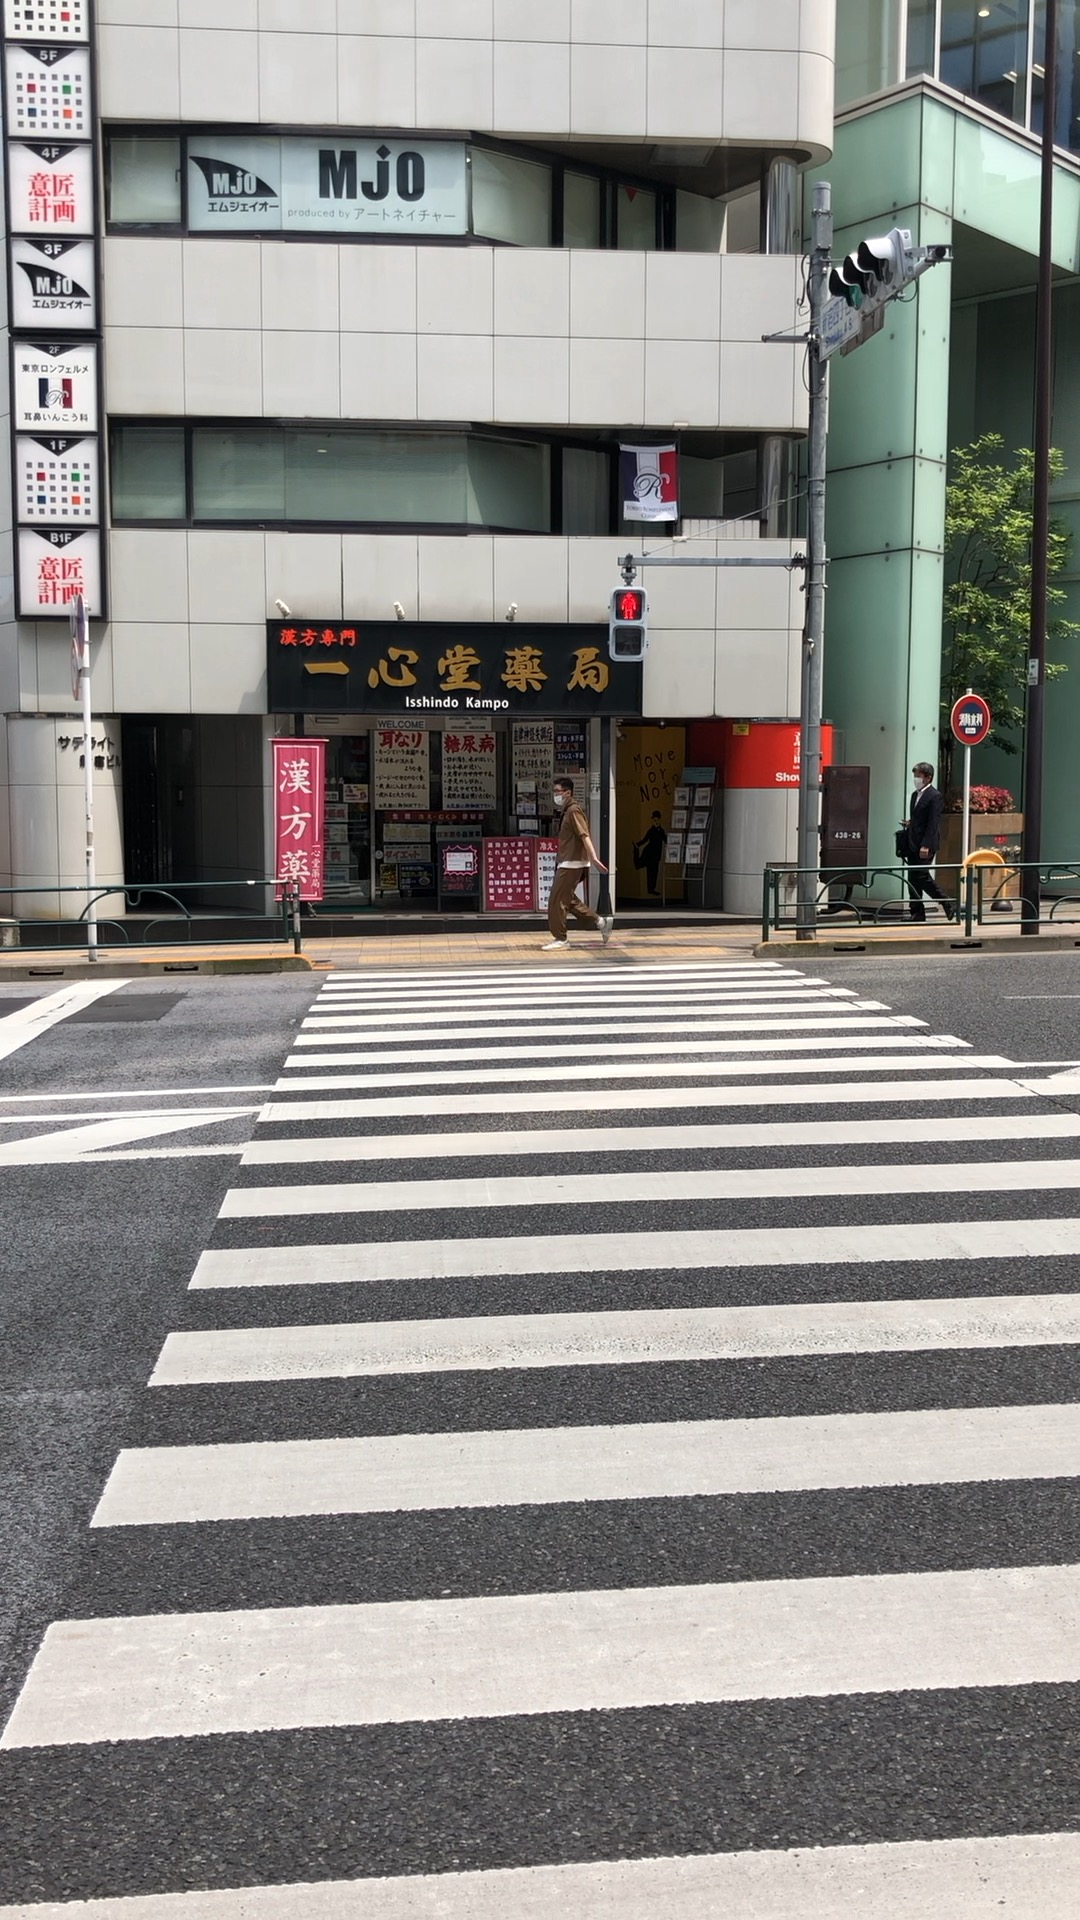red: (607, 585, 647, 661)
